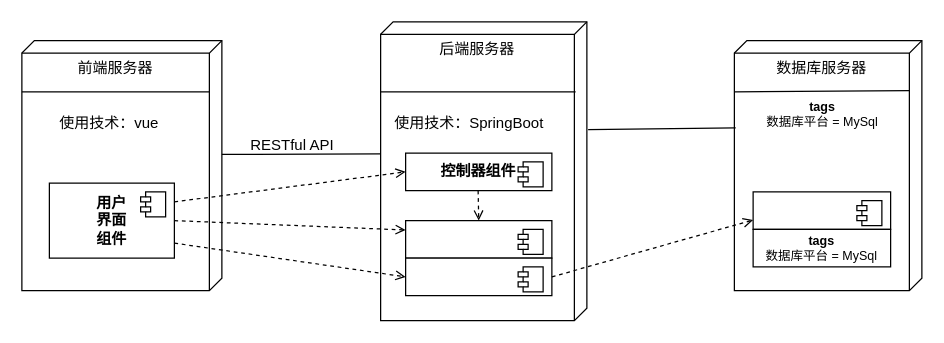
Image size: 944x343. Some labels were removed from this diagram. The shapes that lost their labels are listed below. From the top down, each one's centre as x and y in pixels, then its label:
(821,210): 数据库
(478,238): 服务组件
(478,276): 数据 访问组件
